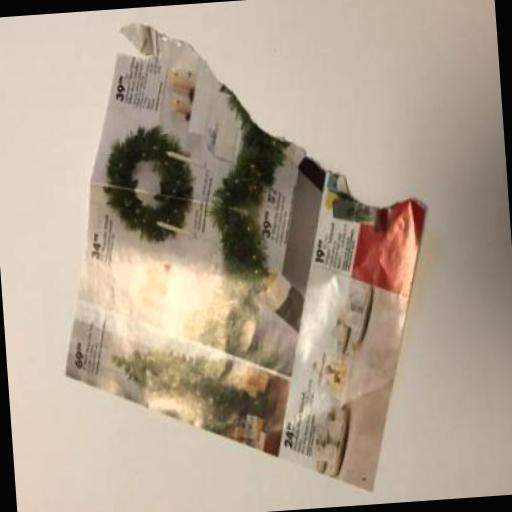paper: (38, 1, 443, 512)
